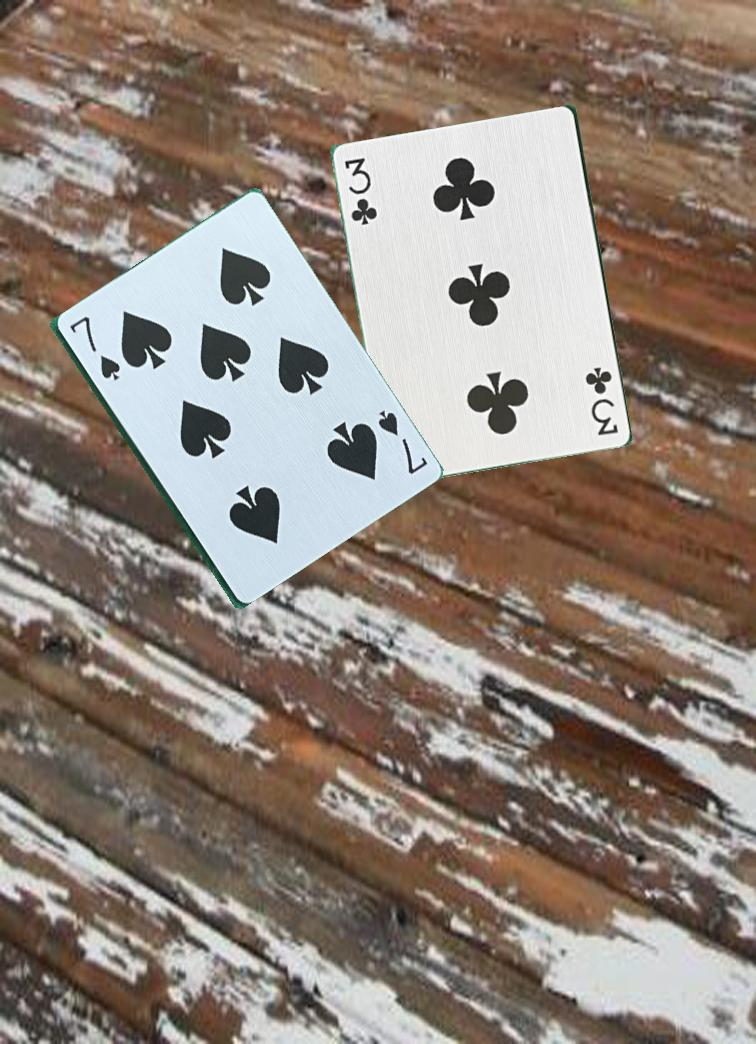3c: (341, 154, 382, 235), (582, 358, 622, 439)
7s: (67, 313, 124, 384), (375, 407, 431, 478)
